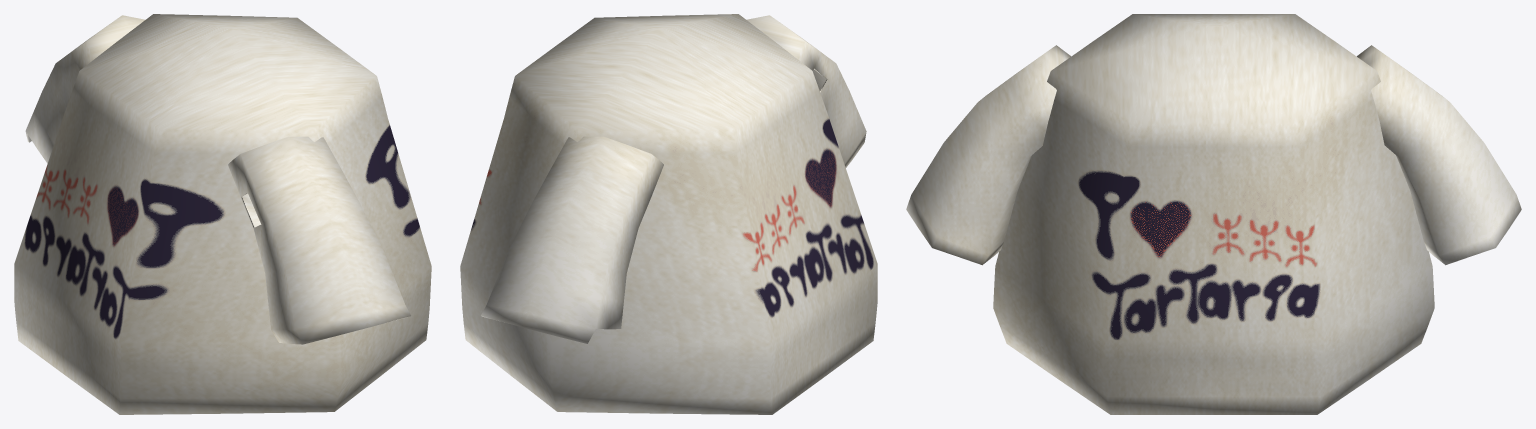
Rendered from I_3_Tartaria.glb.
The picture shows the model from 3 angles, left to right: view 1: azimuth 30°, elevation 25°; view 2: azimuth 150°, elevation 25°; view 3: azimuth 270°, elevation 25°; orthographic projection. The views are drawn at different scales.
Parts seen in each view (by area): view 1: I <3 Tartaria; view 2: I <3 Tartaria; view 3: I <3 Tartaria.
Part boxes in pixels (x1,y1,x2,y2): I <3 Tartaria: [14, 14, 431, 414]; I <3 Tartaria: [460, 14, 877, 414]; I <3 Tartaria: [906, 14, 1521, 414].
Size of the model in its own units: 1.46 by 1.48 by 2.45.
Materials: 1 (1 with a texture image).
